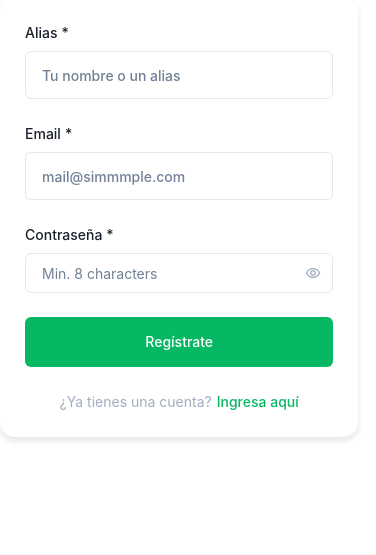
Test: FormR Component › debería mostrar un mensaje de error si ocurre un fallo en el registro
The width and height of the screenshot is (376, 555).
# Simular ingreso de valores en los campos
Type "John" into the field with placeholder "Tu nombre o un alias" at {"x": 179, "y": 75}, box left=25, top=51, right=333, bottom=99
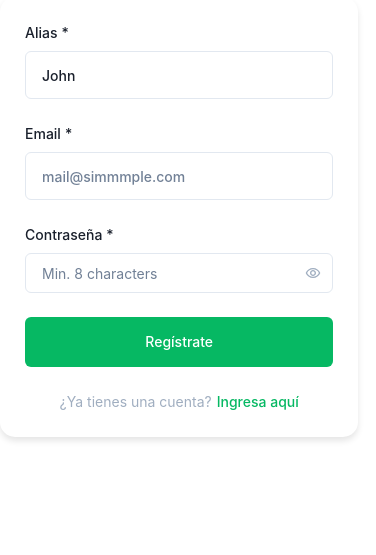
Type "test@example.com" into the field with placeholder "mail@simmmple.com" at {"x": 179, "y": 176}, box left=25, top=152, right=333, bottom=200
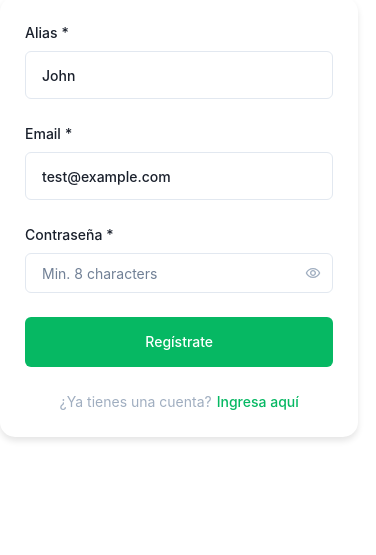
Type "password123" into the password field with placeholder "Min. 8 characters" at {"x": 179, "y": 273}, box left=25, top=253, right=333, bottom=293
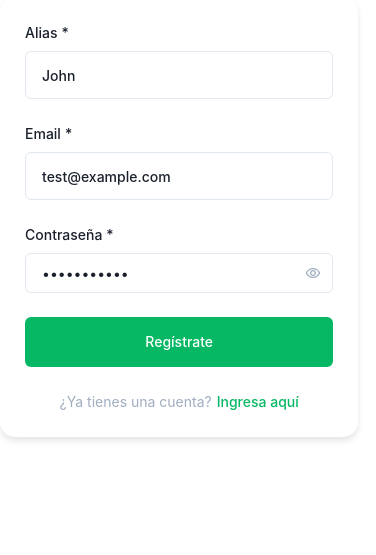
# Simular clic en el botón de registro
Click the button "Regístrate" at {"x": 179, "y": 342}, box left=25, top=317, right=333, bottom=367
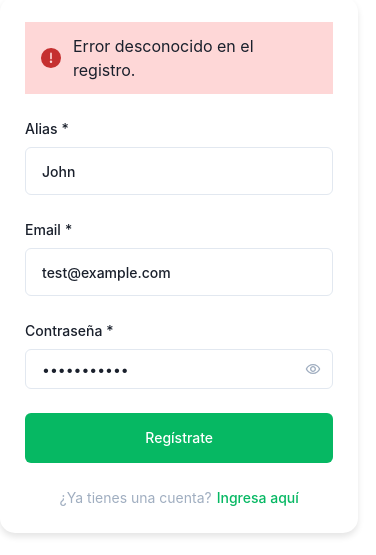
Check: the text "Error desconocido en el registro." is shown, box left=25, top=22, right=333, bottom=94
